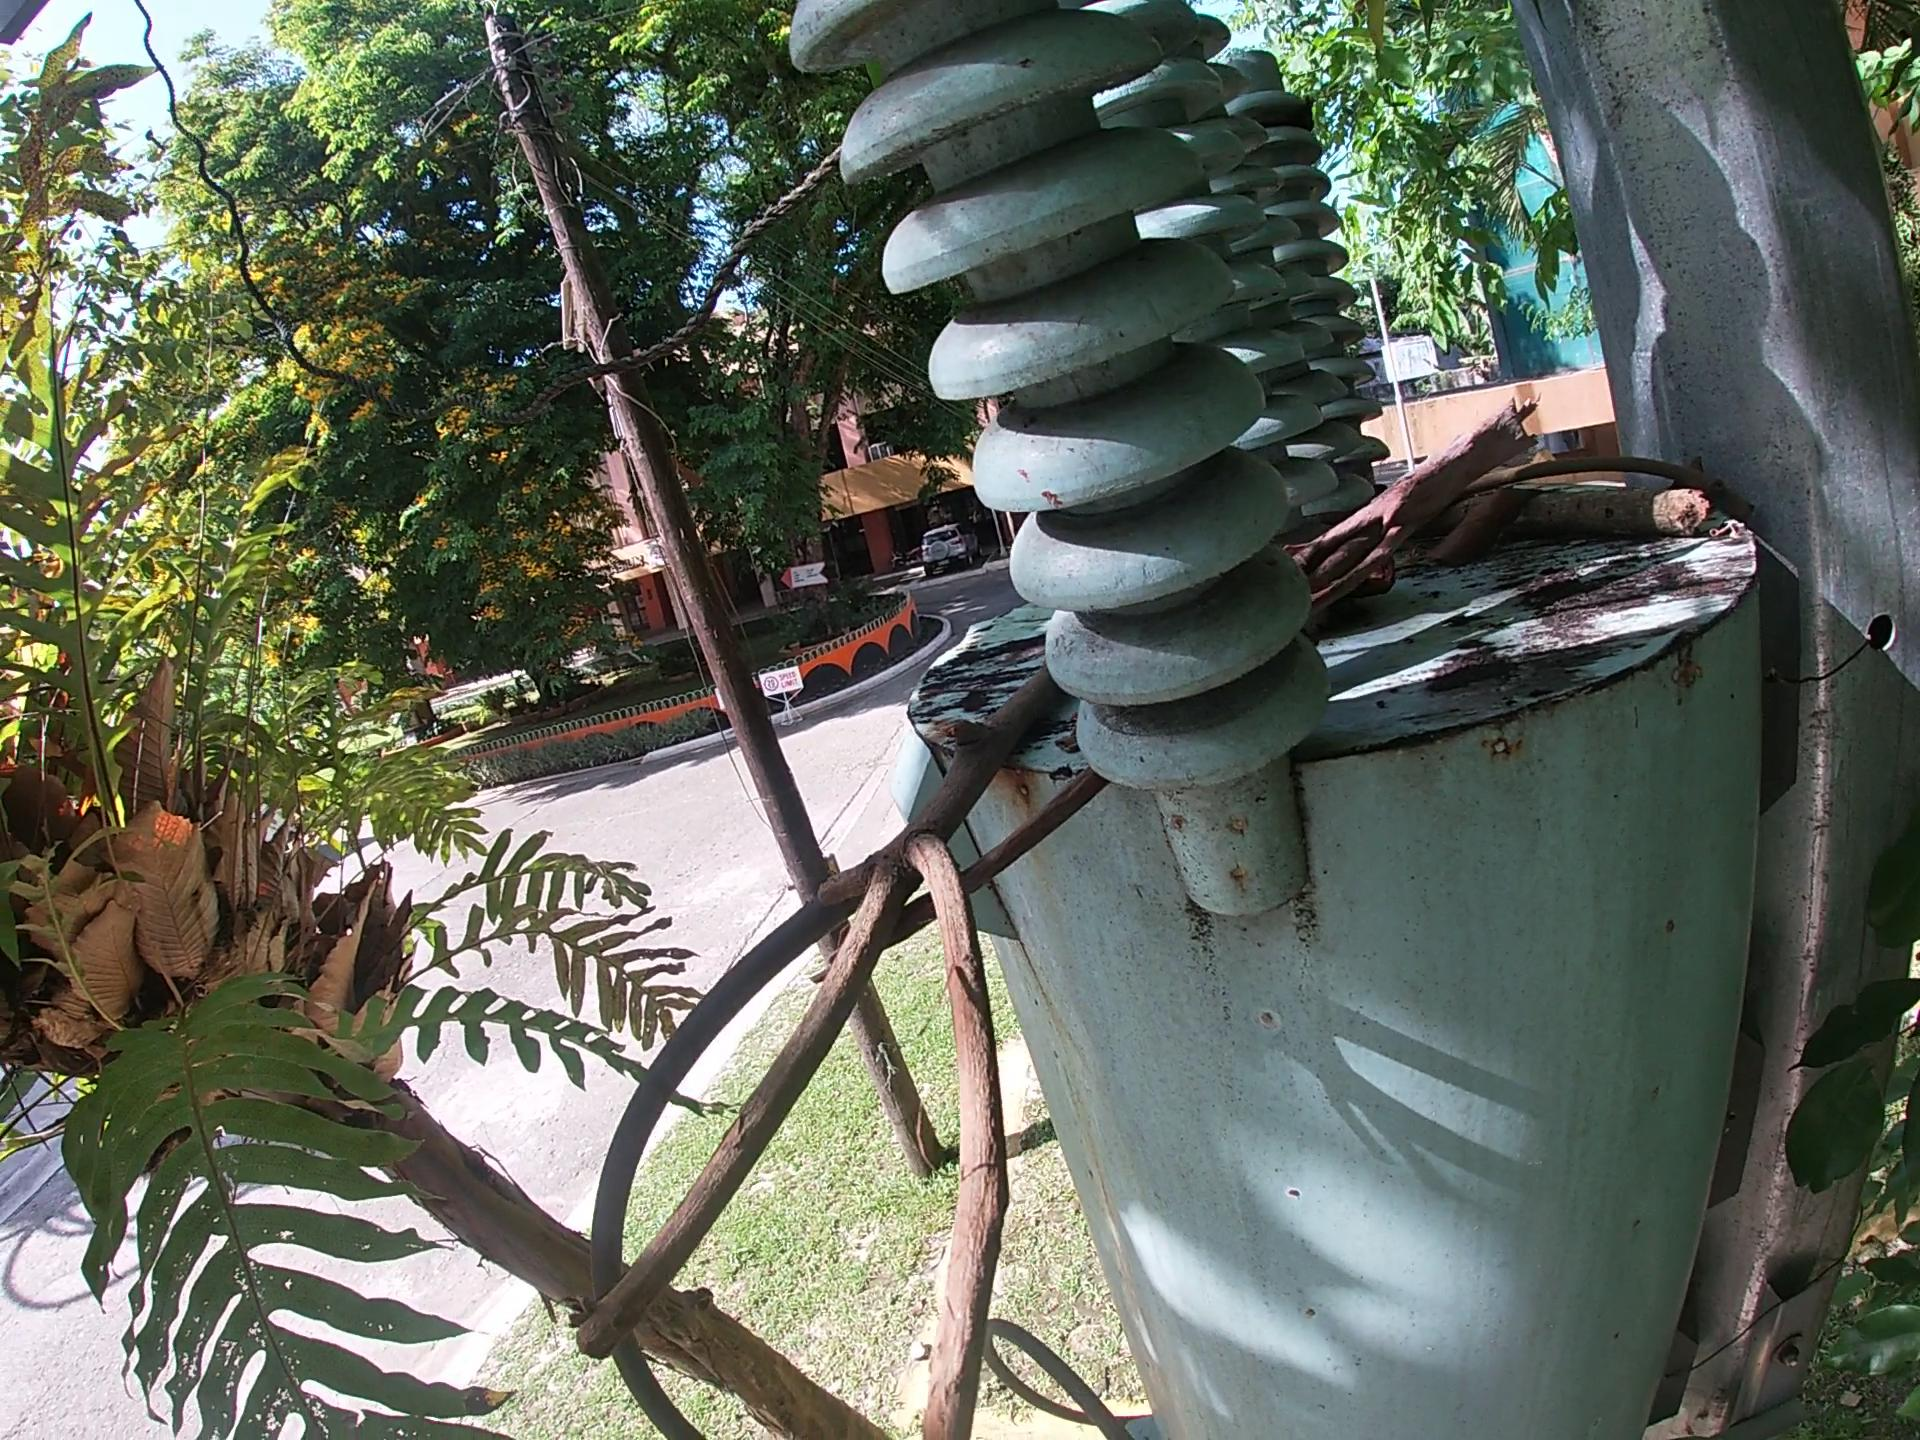leaf: (1423, 478, 1544, 572)
tree branch: (565, 656, 1073, 1440), (1296, 395, 1545, 632), (869, 762, 1111, 959), (1460, 445, 1739, 510), (1513, 483, 1708, 548)
